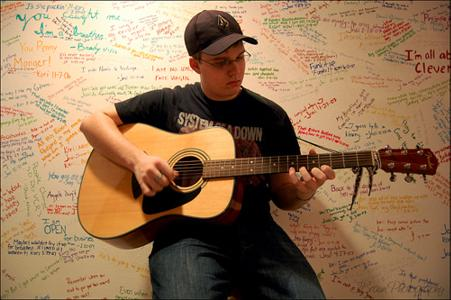person: (78, 10, 335, 300)
